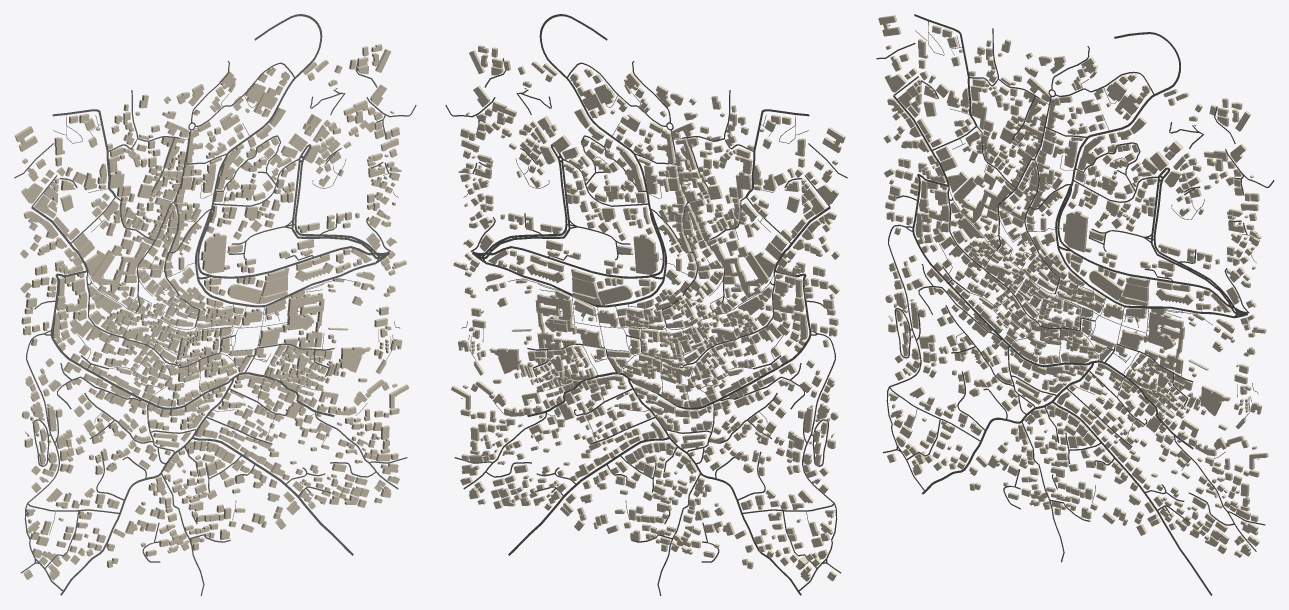
File: historic-palestine-10_23_3520_3170.glb
3 views of the same model, side by side, from view 1: azimuth 30°, elevation 25°; view 2: azimuth 150°, elevation 25°; view 3: azimuth 330°, elevation 25° (orthographic).
Visible parts, largest first — view 1: Building_.005, Road شارع المهد.001, Road شارع مار شربل, Road شارع المسلخ, Road شارع هندازة; view 2: Building_.005, Road شارع المهد.001, Road شارع المسلخ, Road شارع مار شربل, Road شارع هندازة; view 3: Building_.005, Road شارع مار شربل, Road شارع المهد.001, Road شارع المسلخ, Road شارع هندازة.
Boxes of the visible parts, left/top/right/bottom form: Building_.005: left=201, top=232, right=226, bottom=273; Road شارع المهد.001: left=210, top=14, right=322, bottom=210; Road شارع مار شربل: left=50, top=274, right=232, bottom=409; Road شارع المسلخ: left=60, top=378, right=234, bottom=595; Road شارع هندازة: left=192, top=437, right=353, bottom=555; Building_.005: left=633, top=234, right=659, bottom=274; Road شارع المهد.001: left=539, top=14, right=651, bottom=210; Road شارع المسلخ: left=627, top=378, right=801, bottom=595; Road شارع مار شربل: left=629, top=274, right=811, bottom=409; Road شارع هندازة: left=508, top=437, right=668, bottom=555; Building_.005: left=1063, top=210, right=1088, bottom=252; Road شارع مار شربل: left=912, top=174, right=1092, bottom=367; Road شارع المهد.001: left=1070, top=32, right=1180, bottom=186; Road شارع المسلخ: left=922, top=362, right=1093, bottom=494; Road شارع هندازة: left=1052, top=401, right=1212, bottom=595.
Bounding box in the file's own units: 1023 × 1356 × 21.59.
